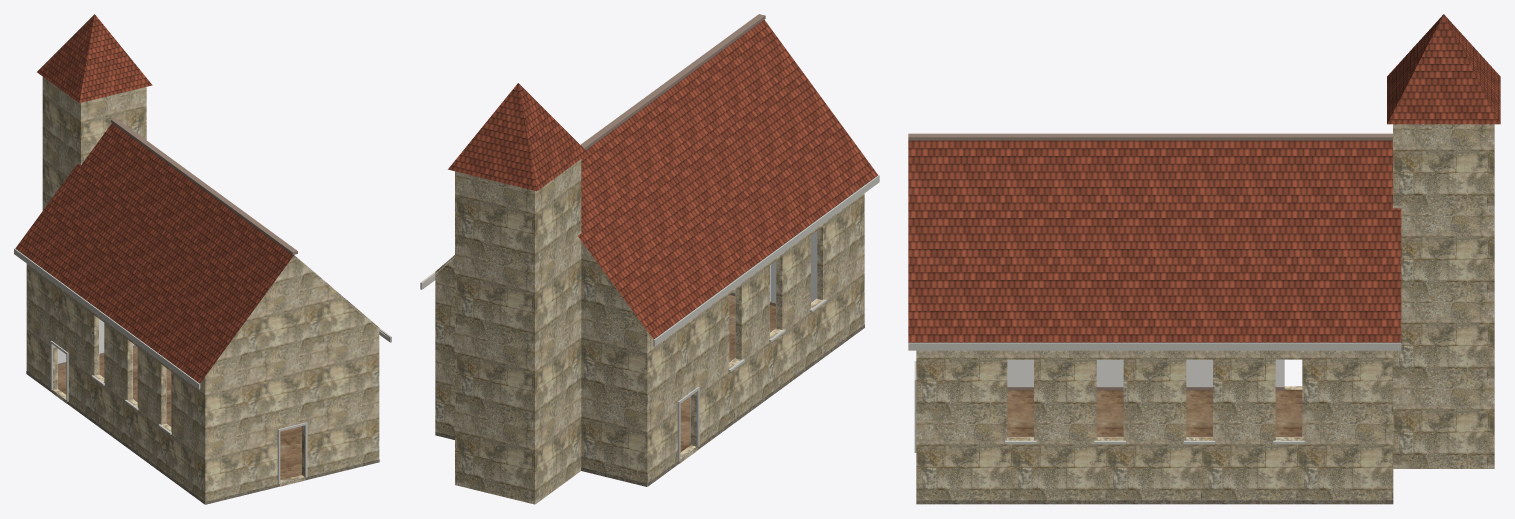
File: village-chapel.windows-v1.lod0.glb
3 renders of one model, left to right at view 1: azimuth 30°, elevation 25°; view 2: azimuth 150°, elevation 25°; view 3: azimuth 270°, elevation 25°, orthographic. The views are drawn at different scales.
Visible parts, largest first — view 1: village-chapel; view 2: village-chapel; view 3: village-chapel.
Part boxes in pixels (<box>): village-chapel: <box>14,14,391,504</box>; village-chapel: <box>420,14,879,504</box>; village-chapel: <box>908,14,1500,504</box>.
Bounding box in the file's own units: 9.98 × 16.08 × 19.87.
Materials: 6 (5 with a texture image).
